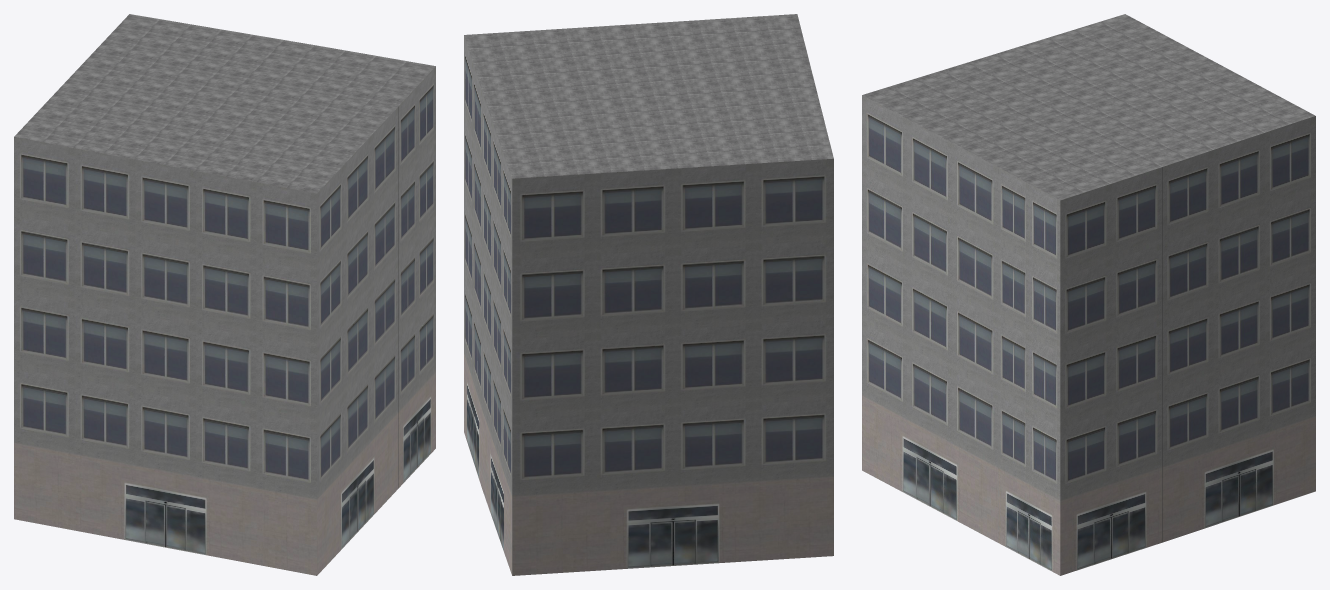
The picture shows the model from 3 angles, left to right: view 1: azimuth 30°, elevation 25°; view 2: azimuth 150°, elevation 25°; view 3: azimuth 270°, elevation 25°; orthographic projection. The views are drawn at different scales.
Parts seen in each view (by area): view 1: BuildingMaster_1986194005844463065600000000_0, BuildingMaster_1986194005844463065600000000_1; view 2: BuildingMaster_1986194005844463065600000000_0, BuildingMaster_1986194005844463065600000000_1; view 3: BuildingMaster_1986194005844463065600000000_0, BuildingMaster_1986194005844463065600000000_1.
Boxes of the visible parts, x1,y1,x2,y2 form: BuildingMaster_1986194005844463065600000000_0: [14, 66, 435, 575]; BuildingMaster_1986194005844463065600000000_1: [14, 14, 435, 193]; BuildingMaster_1986194005844463065600000000_0: [464, 35, 833, 575]; BuildingMaster_1986194005844463065600000000_1: [464, 14, 833, 178]; BuildingMaster_1986194005844463065600000000_0: [862, 95, 1315, 575]; BuildingMaster_1986194005844463065600000000_1: [862, 14, 1315, 200].
Size of the model in its own units: 18.63 by 17.5 by 19.16.
Materials: 2 (2 with a texture image).
